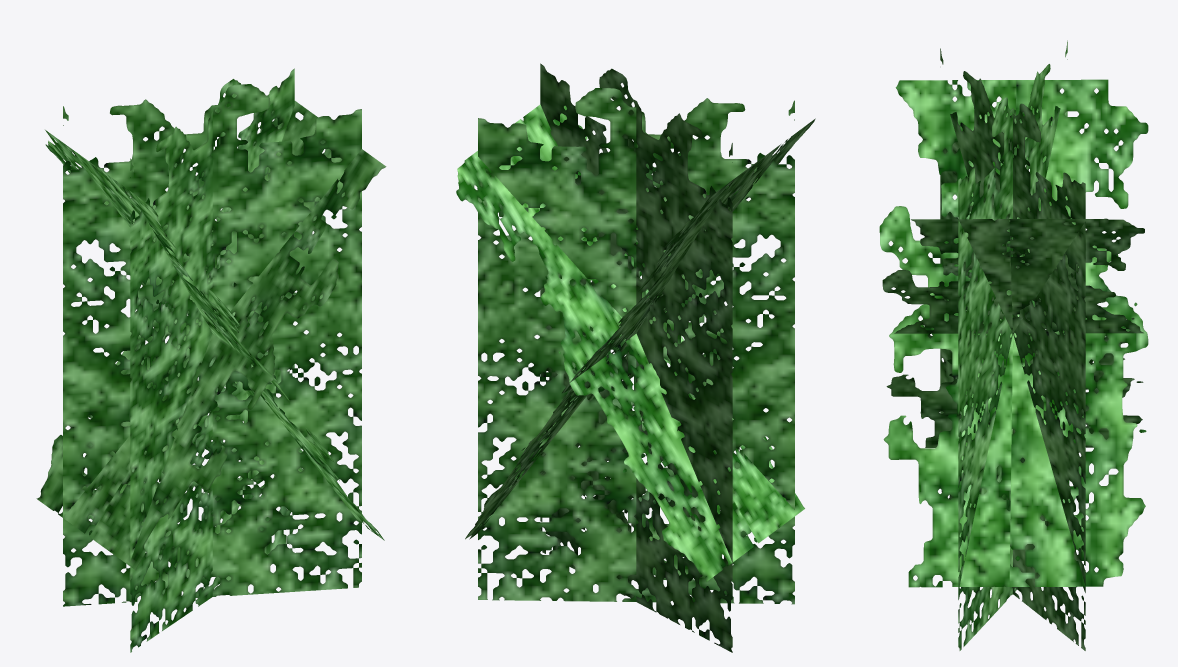
File: bush_tall_half_full_overgrown_spring.fbx
3 views of the same model, side by side, from view 1: azimuth 30°, elevation 25°; view 2: azimuth 150°, elevation 25°; view 3: azimuth 270°, elevation 25° (orthographic). The views are drawn at different scales.
Visible parts, largest first — view 1: bush_tall_half_full_overgrown_spring; view 2: bush_tall_half_full_overgrown_spring; view 3: bush_tall_half_full_overgrown_spring.
Part boxes in pixels (x1,y1,x2,y2): bush_tall_half_full_overgrown_spring: [36, 68, 386, 652]; bush_tall_half_full_overgrown_spring: [456, 63, 815, 652]; bush_tall_half_full_overgrown_spring: [879, 40, 1148, 650].
Size of the model in its own units: 100 by 206 by 108.
1 material, 1 textured.
